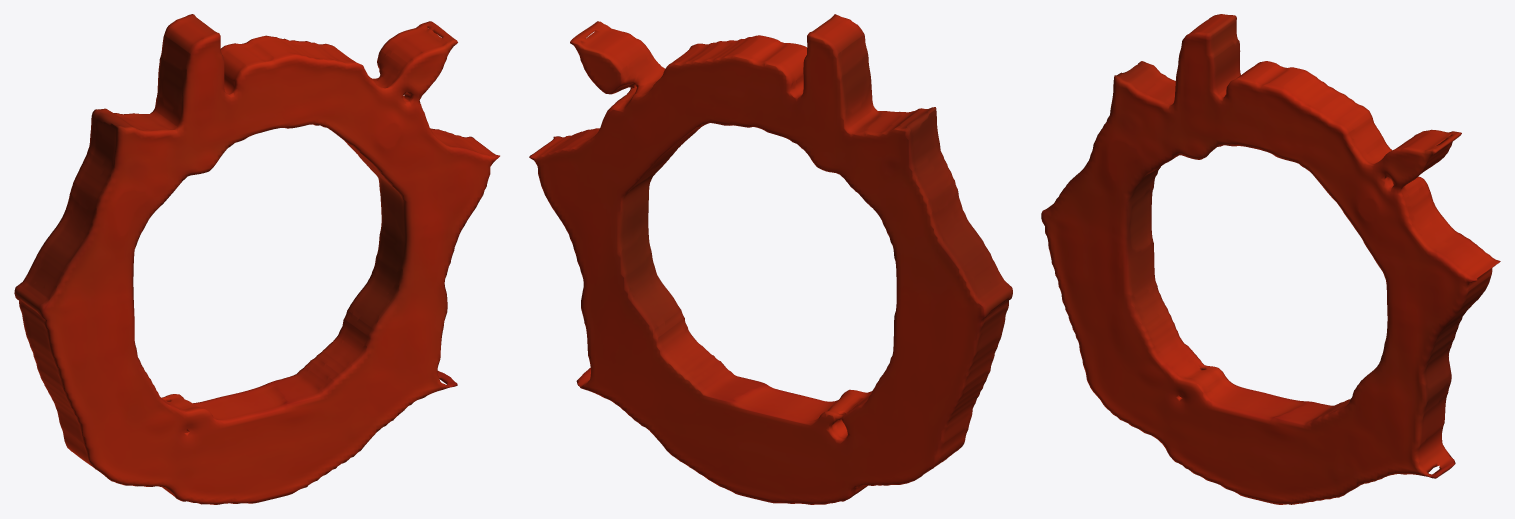
File: 12_A Dick_XXX.FBX
3 renders of one model, left to right at view 1: azimuth 30°, elevation 25°; view 2: azimuth 150°, elevation 25°; view 3: azimuth 330°, elevation 25°, orthographic. The views are drawn at different scales.
Visible parts, largest first — view 1: plyFile; view 2: plyFile; view 3: plyFile.
Part boxes in pixels (x1=…): plyFile: x1=14, y1=14, x2=499, y2=504; plyFile: x1=529, y1=14, x2=1012, y2=504; plyFile: x1=1041, y1=14, x2=1500, y2=504.
Bounding box in the file's own units: 198 × 197 × 22.38.
